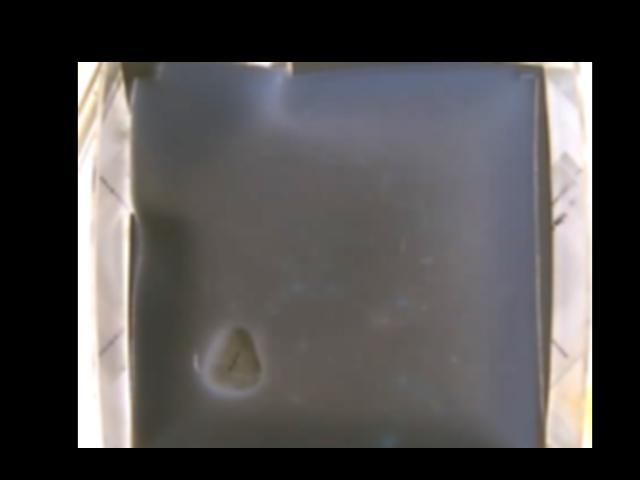Pebble: (206, 325, 261, 391)
